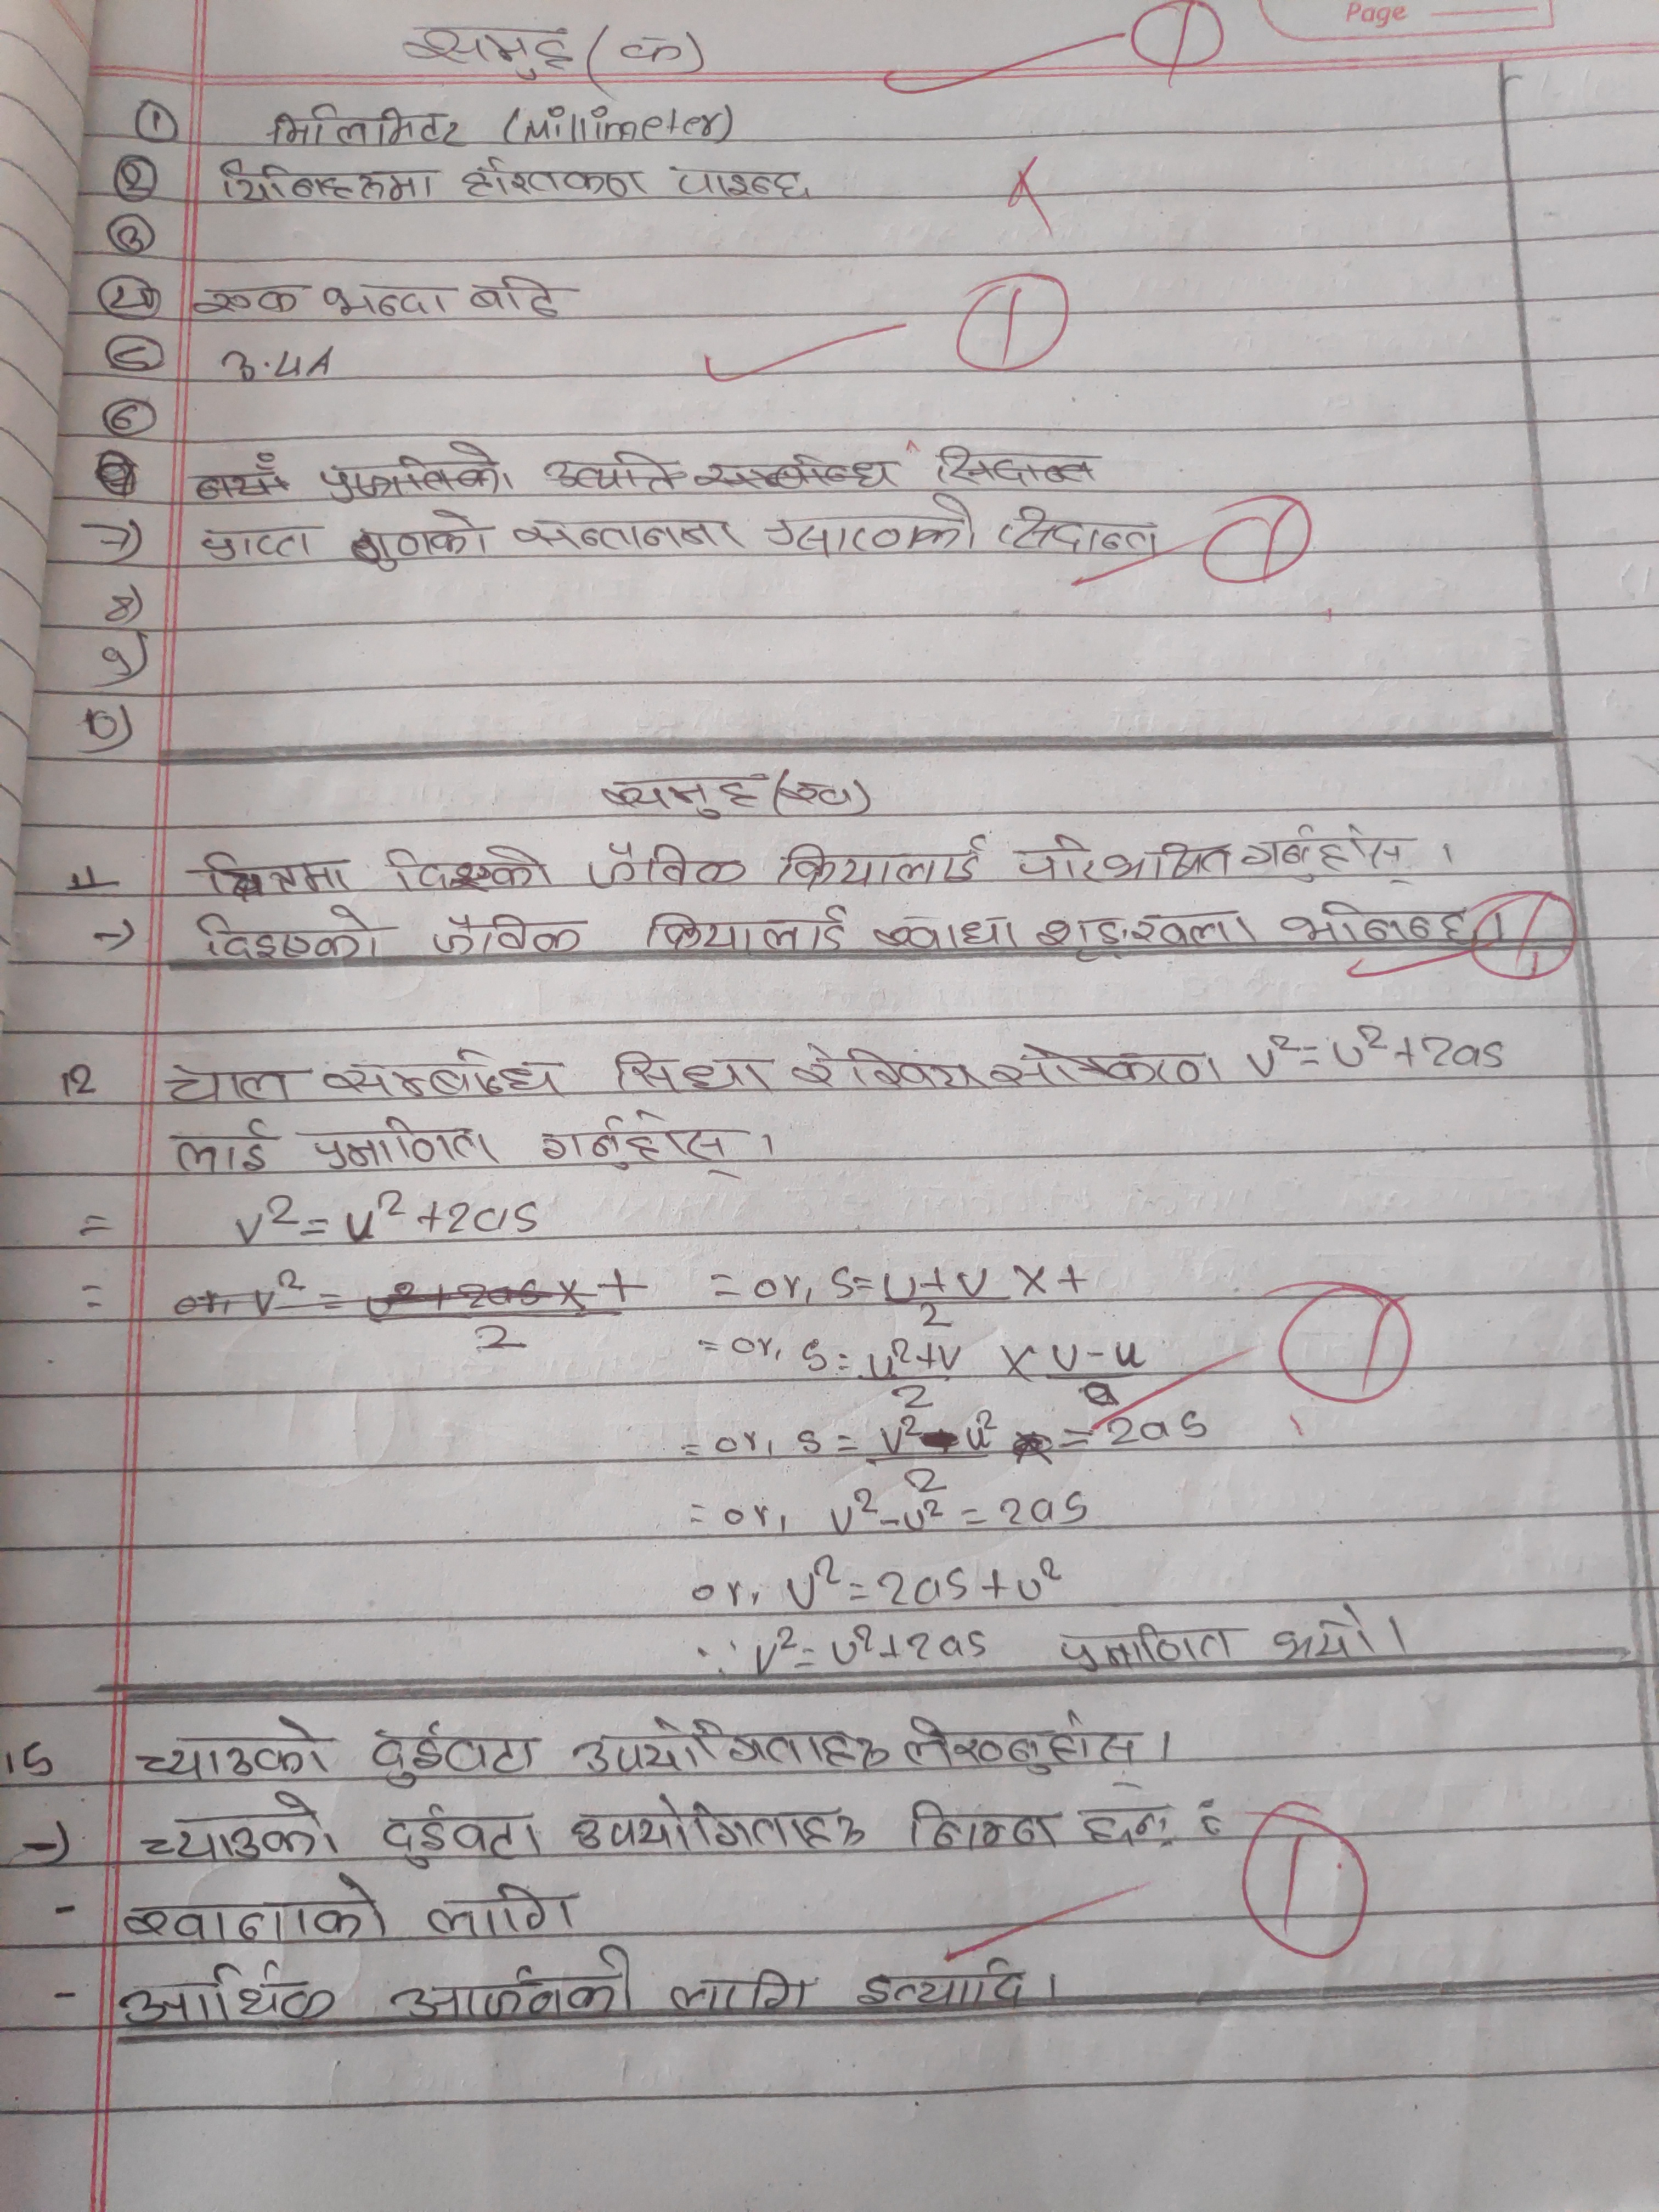text: (117, 1869, 399, 1947), (382, 1947, 643, 2027), (568, 1716, 894, 1778), (894, 1714, 1154, 1791), (566, 1794, 868, 1858), (134, 1787, 350, 1864), (537, 1111, 755, 1179), (119, 1959, 336, 2027), (1039, 902, 1263, 967), (132, 1714, 336, 1784), (758, 496, 979, 557), (213, 153, 439, 211), (319, 1047, 566, 1099), (983, 1038, 1230, 1090), (399, 17, 579, 87), (305, 1111, 498, 1176), (502, 509, 748, 559), (1014, 826, 1236, 881), (1241, 820, 1417, 890), (781, 1040, 988, 1097), (380, 1803, 544, 1874), (369, 1723, 540, 1791), (775, 834, 988, 888), (457, 152, 653, 209), (856, 1956, 1032, 2019), (647, 900, 849, 954), (1281, 897, 1483, 949), (587, 833, 749, 897), (193, 904, 385, 958), (589, 765, 767, 822), (605, 1042, 777, 1101), (897, 1794, 1063, 1855), (265, 99, 469, 148), (995, 502, 1162, 561), (349, 505, 491, 573), (1054, 1625, 1239, 1677), (382, 840, 561, 892), (423, 1881, 584, 1939), (434, 909, 587, 963), (667, 1966, 814, 2022), (199, 845, 354, 895), (662, 158, 819, 204), (1267, 1606, 1380, 1669), (159, 1059, 301, 1108), (317, 279, 455, 327), (169, 1115, 279, 1176), (467, 268, 572, 327), (197, 521, 319, 571), (868, 914, 1030, 948), (1080, 1791, 1161, 1857), (186, 280, 310, 320)
